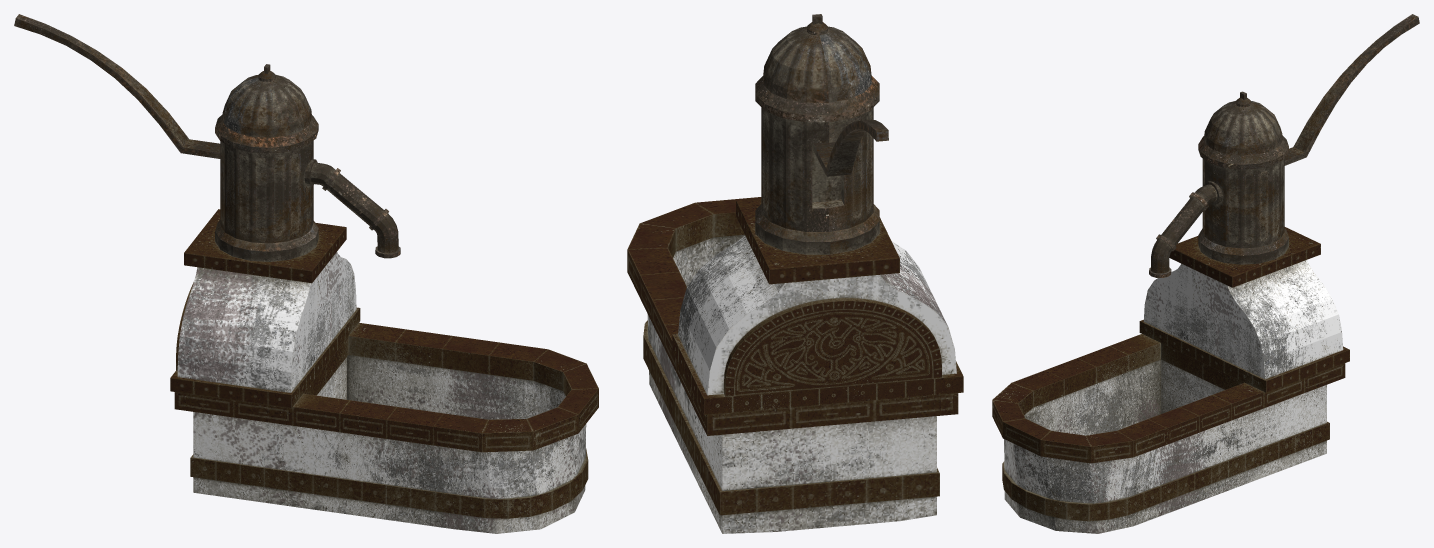
The model's file is Well faucet N161121.obj.
3 renders of one model, left to right at view 1: azimuth 30°, elevation 25°; view 2: azimuth 150°, elevation 25°; view 3: azimuth 270°, elevation 25°, orthographic. The views are drawn at different scales.
Parts seen in each view (by area): view 1: Hydrant1; view 2: Hydrant1; view 3: Hydrant1.
Boxes of the visible parts, box(x1,y1,x2,y2) form: Hydrant1: box(14, 14, 598, 533); Hydrant1: box(627, 14, 963, 533); Hydrant1: box(992, 14, 1419, 533).
Size of the model in its own units: 13627 by 13881 by 14841.
